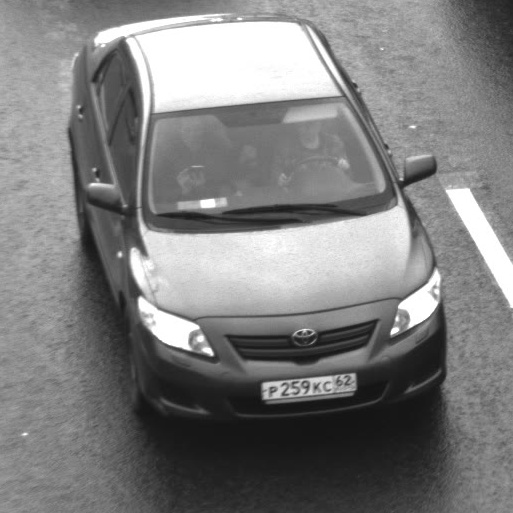plate: (250, 363, 364, 408)
